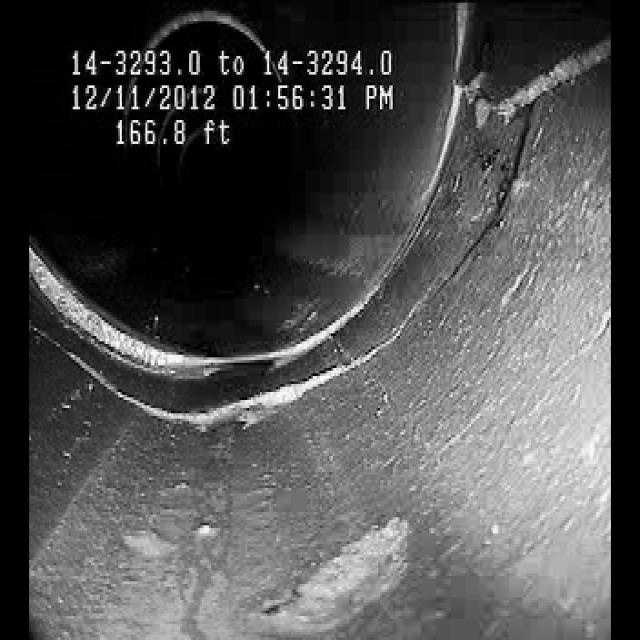Fracture: (80, 332, 308, 457), (444, 130, 540, 310)
